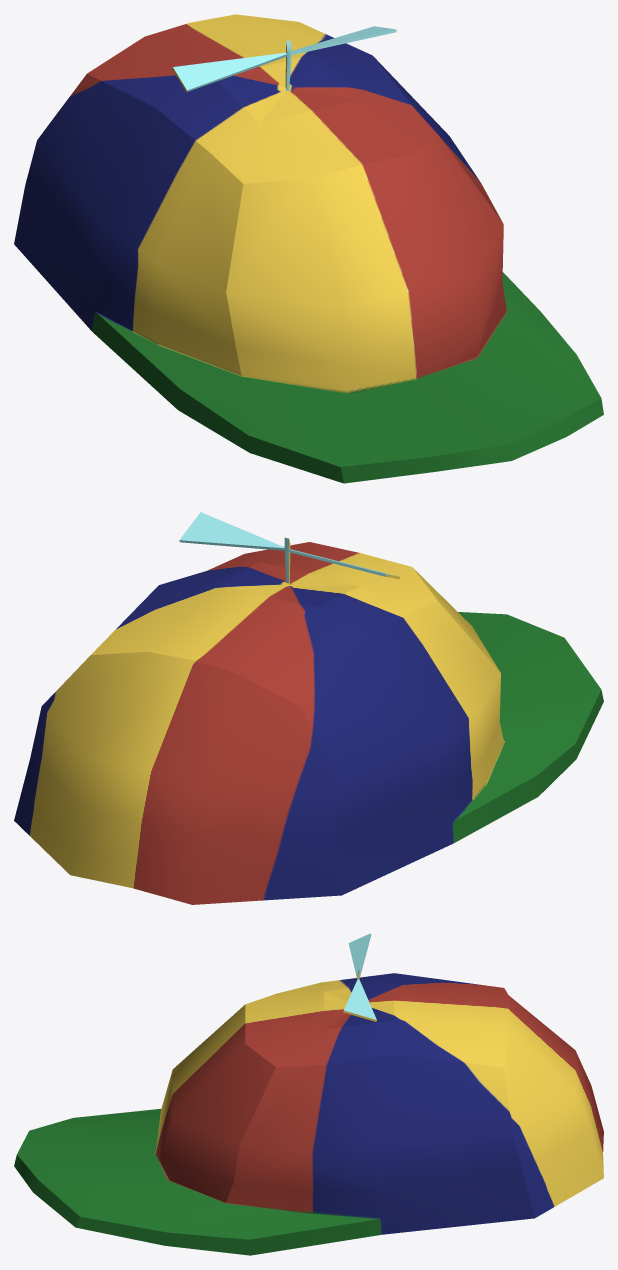
File: propellerHat.fbx
The picture shows the model from 3 angles, top to bottom: view 1: azimuth 30°, elevation 25°; view 2: azimuth 150°, elevation 25°; view 3: azimuth 270°, elevation 25°; orthographic projection. The views are drawn at different scales.
Visible parts, largest first — view 1: propellorhAT; view 2: propellorhAT; view 3: propellorhAT.
Part boxes in pixels (<box>): propellorhAT: <box>14,14,603,483</box>; propellorhAT: <box>14,512,603,904</box>; propellorhAT: <box>14,933,603,1255</box>.
Size of the model in its own units: 16.86 by 12.54 by 30.79.
Materials: 1 (1 with a texture image).
